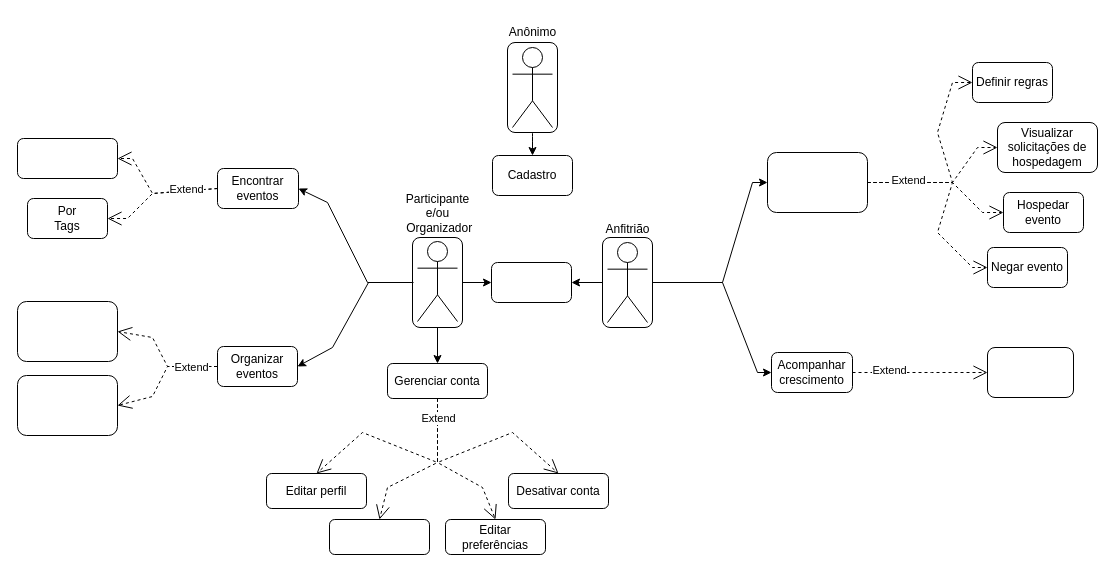
Image size: 1115x572. Some labels were removed from this diagram. The centre of each missing label's shape, as x and y in pixels:
Editar login e/ou senha: point 379,536
Enviar solicitação de hospedagem: point 67,331
Gerenciar hospedagem de eventos: point 817,182
Login: point 531,282
Por localização: point 67,158
Ver os anfitriões mais bem avaliados: point 67,405
Visualizar aumento por evento: point 1030,372
